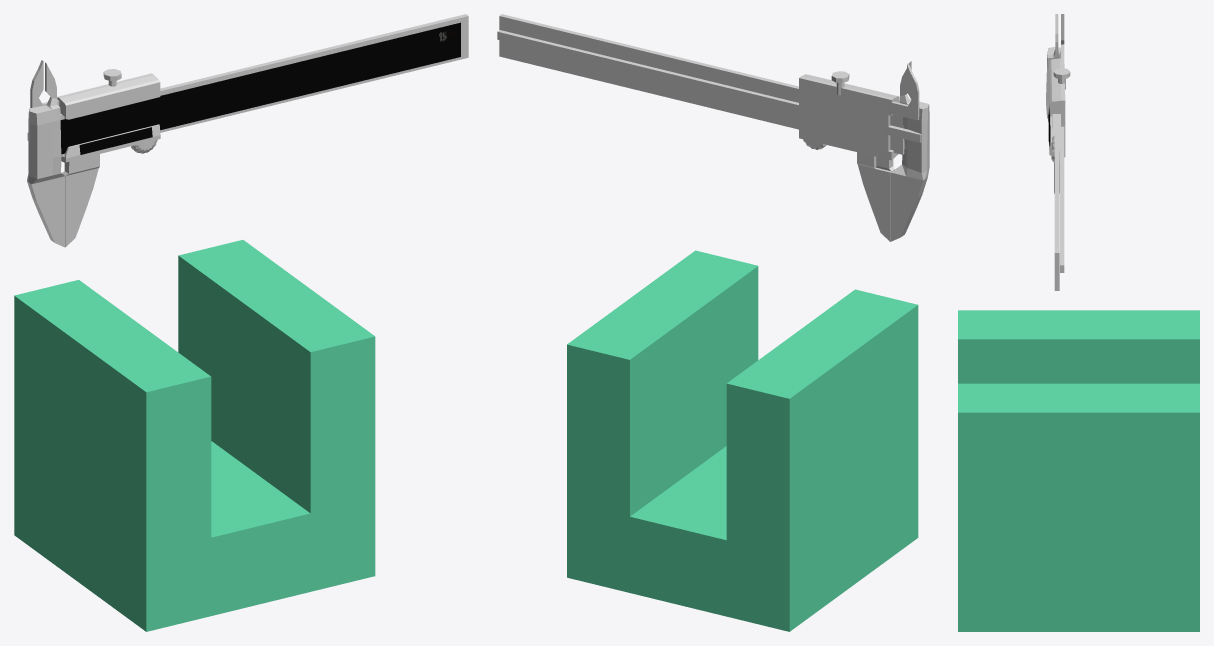
File: vernierCaliper.glb
The picture shows the model from 3 angles, left to right: view 1: azimuth 30°, elevation 25°; view 2: azimuth 150°, elevation 25°; view 3: azimuth 270°, elevation 25°; orthographic projection. The views are drawn at different scales.
Parts seen in each view (by area): view 1: block, scale, ruler, movable, vernier; view 2: block, ruler, movable; view 3: block, movable, ruler.
Boxes of the visible parts, bbox=[...] form: block: bbox=[14, 240, 375, 631]; scale: bbox=[60, 22, 460, 154]; ruler: bbox=[27, 14, 468, 247]; movable: bbox=[27, 60, 160, 247]; vernier: bbox=[79, 127, 152, 154]; block: bbox=[567, 250, 918, 631]; ruler: bbox=[499, 14, 929, 241]; movable: bbox=[497, 30, 921, 241]; block: bbox=[958, 310, 1199, 631]; movable: bbox=[1048, 14, 1065, 272]; ruler: bbox=[1046, 14, 1060, 290].
Size of the model in its own units: 11.51 by 13.56 by 6.01.
Materials: 3 (1 with a texture image).
